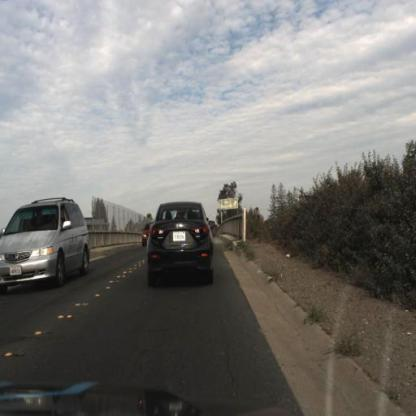car: (1, 198, 91, 298), (140, 202, 219, 294), (137, 218, 155, 252)
